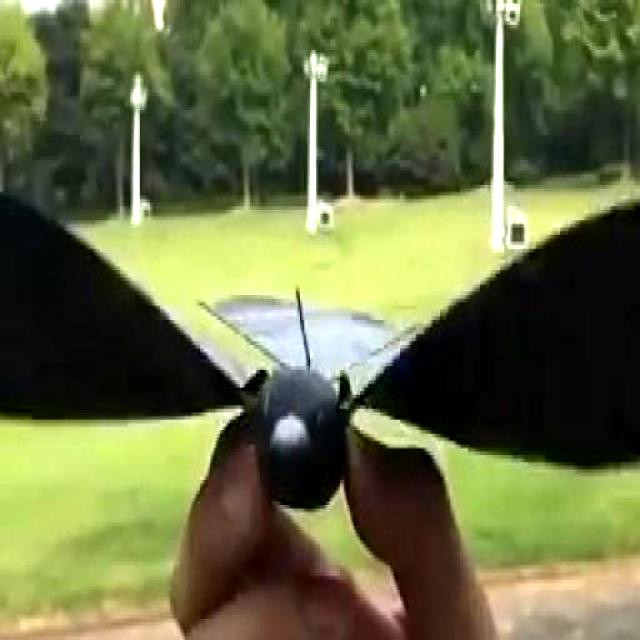airplane: (0, 51, 640, 538)
